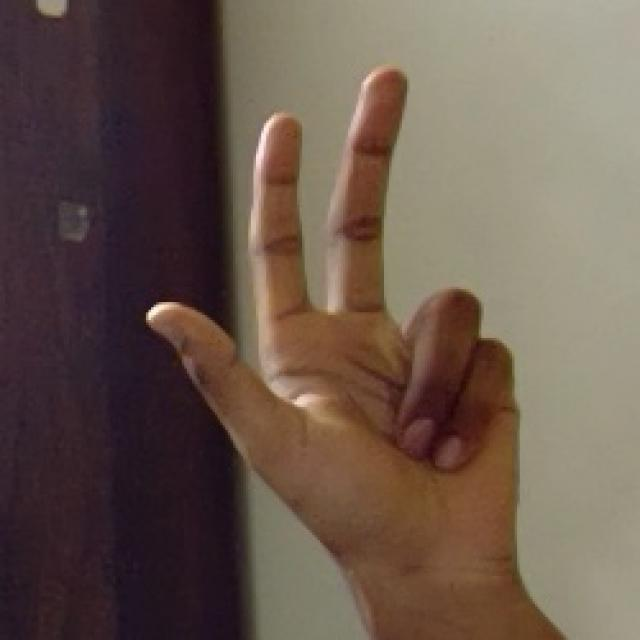Numeric-3: (150, 57, 518, 586)
